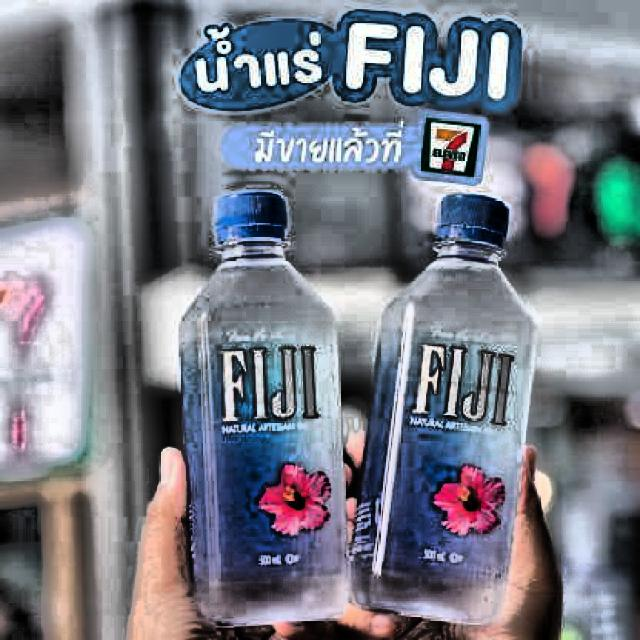Bottles: (164, 184, 354, 640), (349, 184, 535, 630)
